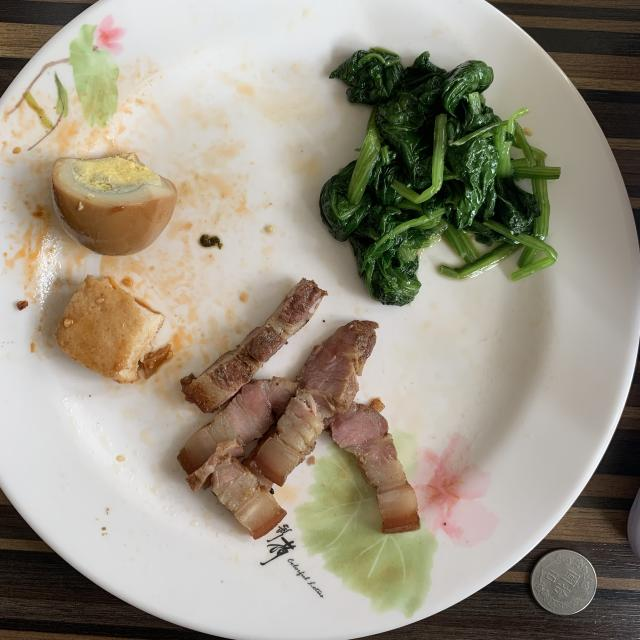coin: (530, 550, 598, 615)
creamy tofu: (55, 275, 172, 382)
grilled pork: (178, 280, 420, 539)
mustard greens: (320, 49, 560, 305)
soy egg: (51, 152, 178, 255)
